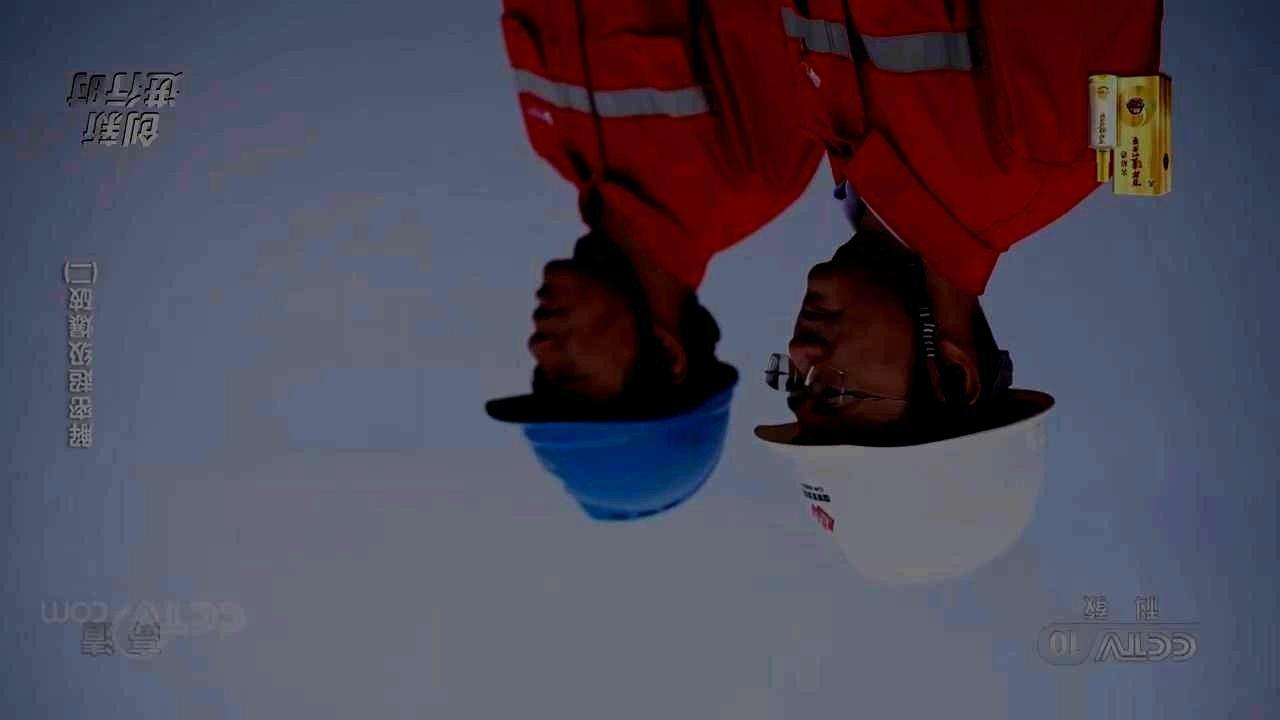helmet: (752, 261, 1057, 588), (484, 257, 742, 526)
